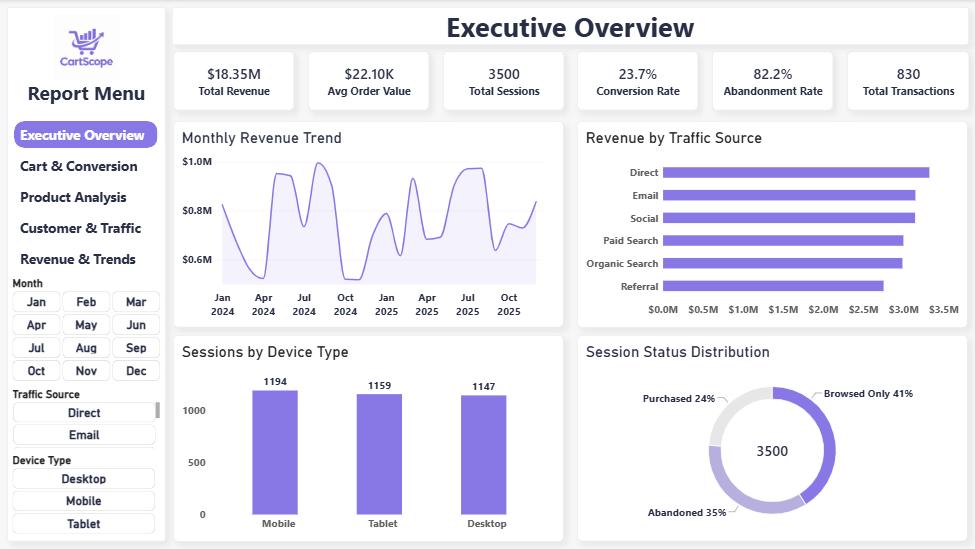

The page's visual inventory and layout, read from the dashboard file:
{"tool":"powerbi","page":{"name":"Executive Overview","canvas":[1920,1080],"ordinal":0},"visuals":[{"type":"cardVisual","title":"Total Revenue","fields":{"Data":["_Measures.Total Revenue"]},"box":[341.6,101.4,238,116.8],"z":0},{"type":"cardVisual","title":"Total Revenue","fields":{"Data":["_Measures.Average Order Value"]},"box":[606.3,101.4,238,116.8],"z":1000},{"type":"cardVisual","title":"Total Revenue","fields":{"Data":["_Measures.Cart Abandonment Rate"]},"box":[1400.3,101.4,238,116.8],"z":2000},{"type":"cardVisual","title":"Total Revenue","fields":{"Data":["_Measures.Purchase Conversion Rate"]},"box":[1135.7,101.4,238,116.8],"z":3000},{"type":"cardVisual","title":"Total Revenue","fields":{"Data":["_Measures.Total Sessions"]},"box":[871,101.4,238,116.8],"z":4000},{"type":"cardVisual","title":"Total Revenue","fields":{"Data":["Count(transactions.transaction_id)"]},"box":[1665,101.4,240.2,116.8],"z":5000},{"type":"lineChart","title":"Monthly Revenue Trend","fields":{"Category":["transactions.transaction_date.Variation.Date Hierarchy.Year","transactions.transaction_date.Variation.Date Hierarchy.Month"],"Y":["_Measures.Total Revenue"]},"box":[341.6,239,767,405],"z":6000},{"type":"clusteredBarChart","title":"Revenue by Traffic Source","fields":{"Category":["visitors.traffic_source"],"Y":["_Measures.Total Revenue"]},"box":[1135.1,239,767,405.6],"z":7000},{"type":"donutChart","title":"Session Status Distribution","fields":{"Category":["sessions.session_status"],"Y":["_Measures.Total Sessions"]},"box":[1135,659,767,405],"z":8000},{"type":"columnChart","title":"Sessions by Device Type","fields":{"Category":["sessions.device_type"],"Y":["_Measures.Total Sessions"]},"box":[341.6,659,767,405.6],"z":9000},{"type":"shape","box":[15,15,312,1050],"z":10000},{"type":"shape","box":[340,15,1565,75],"z":11000},{"type":"textbox","box":[342.5,15,1560,75],"z":12000},{"type":"pageNavigator","box":[30,240,282,300],"z":13000},{"type":"image","box":[16,30,312,130],"z":14000},{"type":"textbox","box":[16,160,312,58],"z":15000},{"type":"advancedSlicerVisual","title":"Month","fields":{"Values":["transactions.Month Short"]},"box":[22.5,540,300,217.5],"z":16000},{"type":"advancedSlicerVisual","title":"Traffic Source","fields":{"Values":["sessions.traffic_source"]},"box":[22,758.2,299.8,130],"z":17000},{"type":"advancedSlicerVisual","title":"Device Type","fields":{"Values":["sessions.device_type"]},"box":[22,888.2,299.8,176.3],"z":18000}]}

Visuals, with their boxes in screenshot pixels (x1, y1, x2, y2), scaled from the page's 1920x1080 canvas onto the 975x549 screenshot:
"Total Revenue" cardVisual: {"left": 173, "top": 52, "right": 294, "bottom": 111}
"Total Revenue" cardVisual: {"left": 308, "top": 52, "right": 429, "bottom": 111}
"Total Revenue" cardVisual: {"left": 711, "top": 52, "right": 832, "bottom": 111}
"Total Revenue" cardVisual: {"left": 577, "top": 52, "right": 698, "bottom": 111}
"Total Revenue" cardVisual: {"left": 442, "top": 52, "right": 563, "bottom": 111}
"Total Revenue" cardVisual: {"left": 846, "top": 52, "right": 967, "bottom": 111}
"Monthly Revenue Trend" lineChart: {"left": 173, "top": 121, "right": 563, "bottom": 327}
"Revenue by Traffic Source" clusteredBarChart: {"left": 576, "top": 121, "right": 966, "bottom": 328}
"Session Status Distribution" donutChart: {"left": 576, "top": 335, "right": 966, "bottom": 541}
"Sessions by Device Type" columnChart: {"left": 173, "top": 335, "right": 563, "bottom": 541}
shape: {"left": 8, "top": 8, "right": 166, "bottom": 541}
shape: {"left": 173, "top": 8, "right": 967, "bottom": 46}
textbox: {"left": 174, "top": 8, "right": 966, "bottom": 46}
pageNavigator: {"left": 15, "top": 122, "right": 158, "bottom": 274}
image: {"left": 8, "top": 15, "right": 167, "bottom": 81}
textbox: {"left": 8, "top": 81, "right": 167, "bottom": 111}
"Month" advancedSlicerVisual: {"left": 11, "top": 274, "right": 164, "bottom": 385}
"Traffic Source" advancedSlicerVisual: {"left": 11, "top": 385, "right": 163, "bottom": 452}
"Device Type" advancedSlicerVisual: {"left": 11, "top": 452, "right": 163, "bottom": 541}
